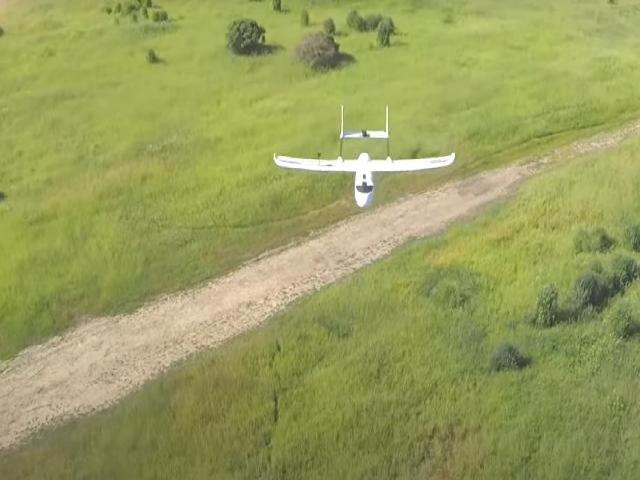iha: (274, 106, 456, 204)
